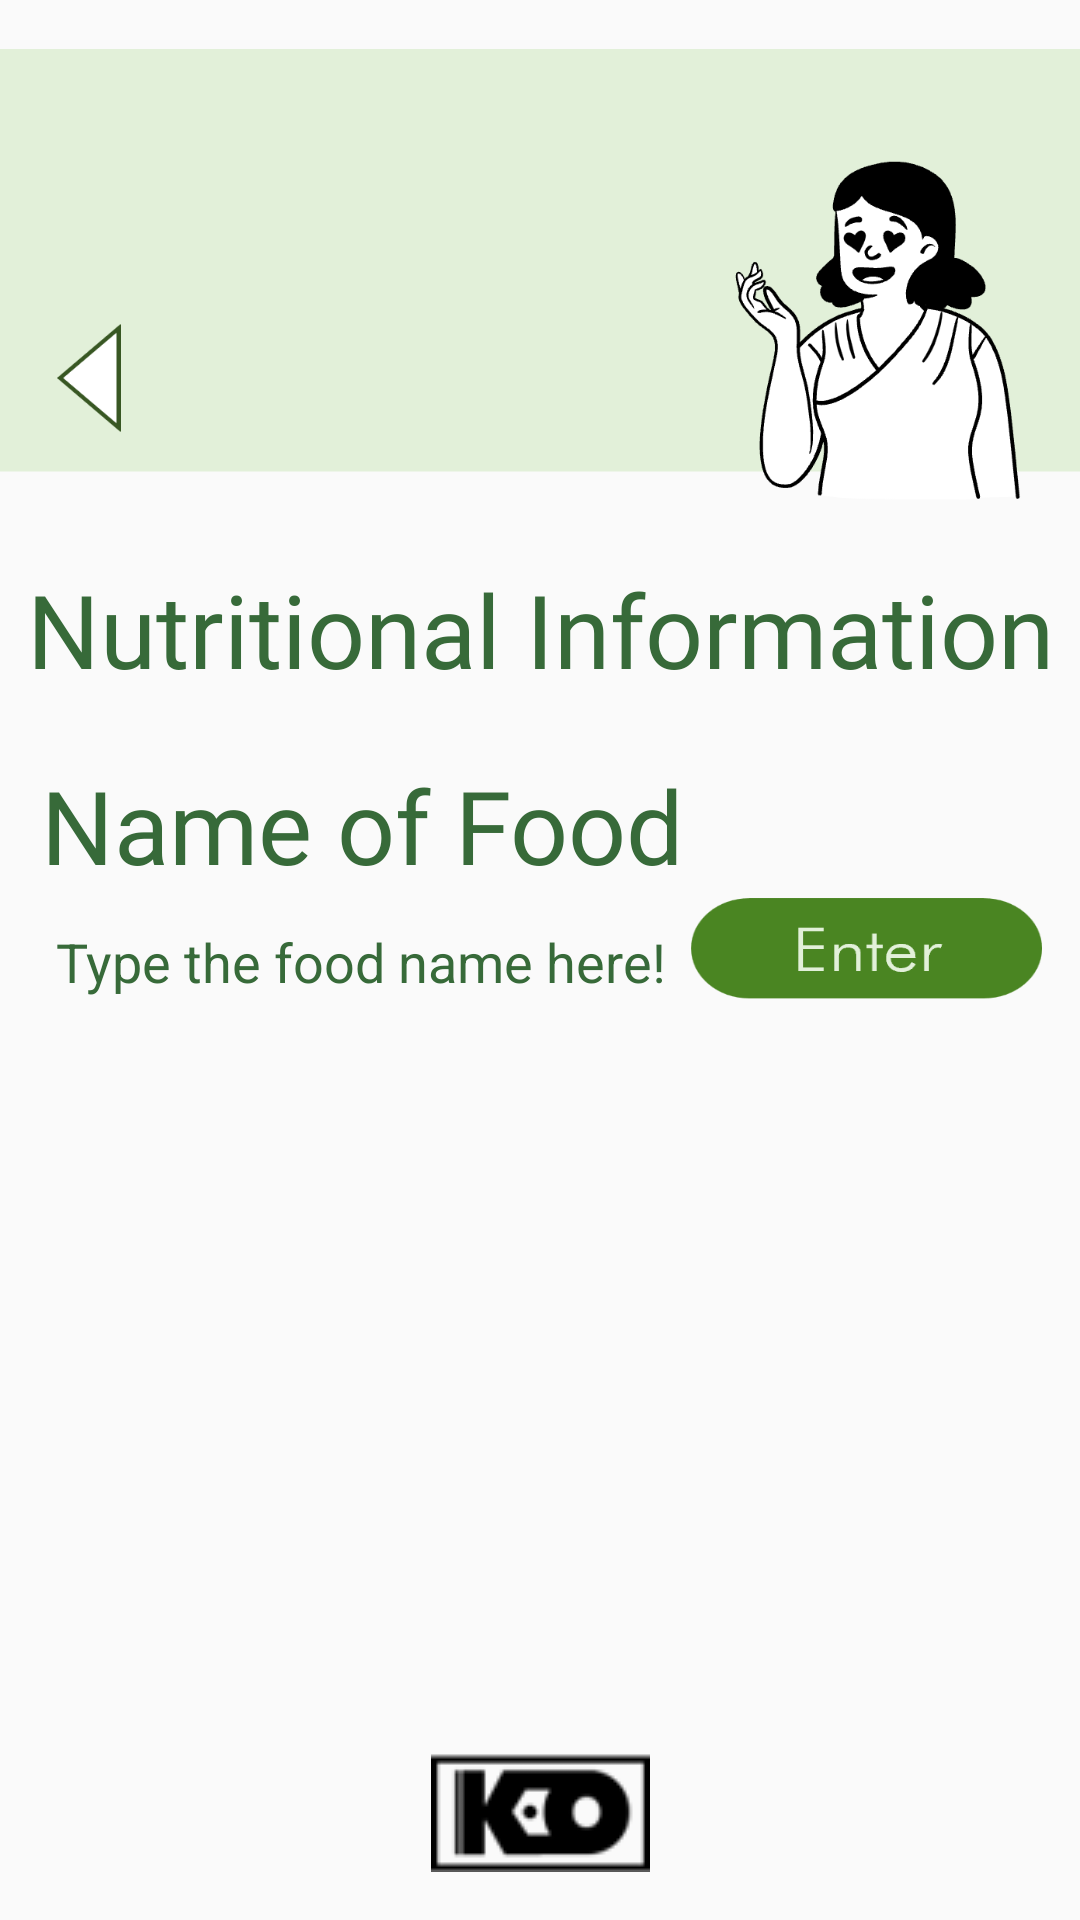

Screen size 1080px x 1920px. Icon name, then its center in pixels as [x,y]:
back: [89,378]
